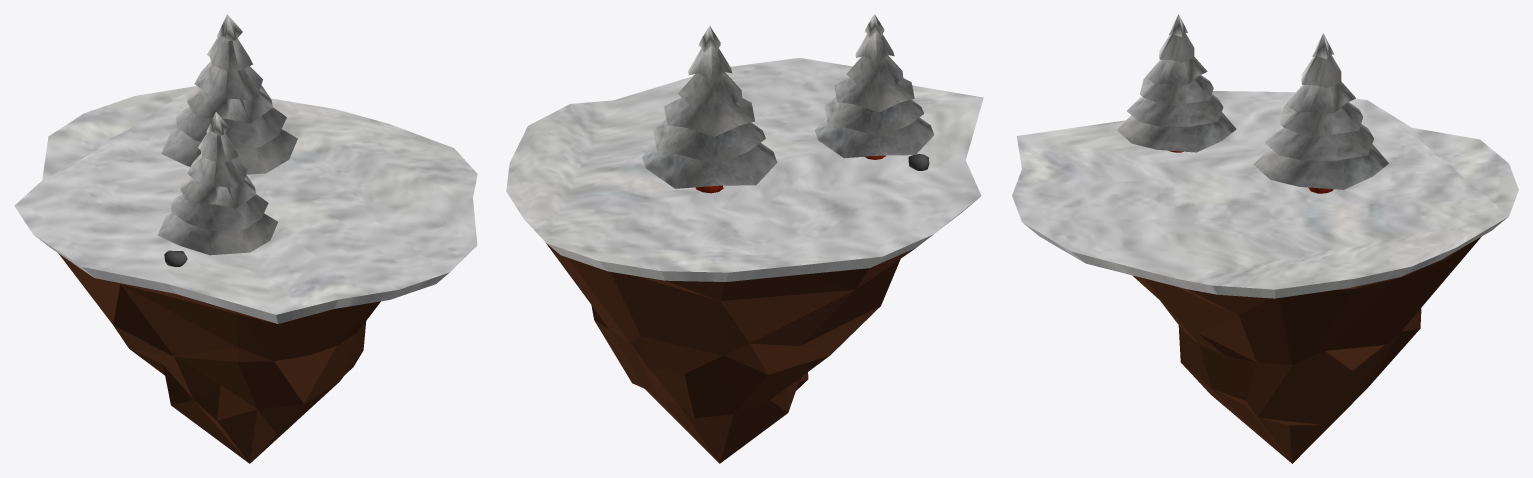
Rendered from ostrvo.obj.
The picture shows the model from 3 angles, left to right: view 1: azimuth 30°, elevation 25°; view 2: azimuth 150°, elevation 25°; view 3: azimuth 270°, elevation 25°; orthographic projection. The views are drawn at different scales.
Visible parts, largest first — view 1: Island_Grass_Cylinder.004, Island_Cylinder.003, Tree_Behind_Plant_Cylinder.005, Tree_Mid_Plant_Cylinder.009; view 2: Island_Grass_Cylinder.004, Island_Cylinder.003, Tree_Behind_Plant_Cylinder.005, Tree_Mid_Plant_Cylinder.009; view 3: Island_Grass_Cylinder.004, Island_Cylinder.003, Tree_Behind_Plant_Cylinder.005, Tree_Mid_Plant_Cylinder.009.
Boxes of the visible parts, x1,y1,x2,y2 form: Island_Grass_Cylinder.004: [14, 86, 477, 323]; Island_Cylinder.003: [58, 253, 380, 463]; Tree_Behind_Plant_Cylinder.005: [161, 14, 297, 174]; Tree_Mid_Plant_Cylinder.009: [157, 112, 277, 255]; Island_Grass_Cylinder.004: [506, 58, 983, 281]; Island_Cylinder.003: [545, 242, 915, 463]; Tree_Behind_Plant_Cylinder.005: [642, 26, 777, 188]; Tree_Mid_Plant_Cylinder.009: [814, 14, 933, 158]; Island_Grass_Cylinder.004: [1012, 91, 1518, 298]; Island_Cylinder.003: [1132, 236, 1481, 463]; Tree_Behind_Plant_Cylinder.005: [1253, 33, 1388, 189]; Tree_Mid_Plant_Cylinder.009: [1117, 14, 1236, 152].
Size of the model in its own units: 5.89 by 6.07 by 6.52.
7 materials, 3 textured.
